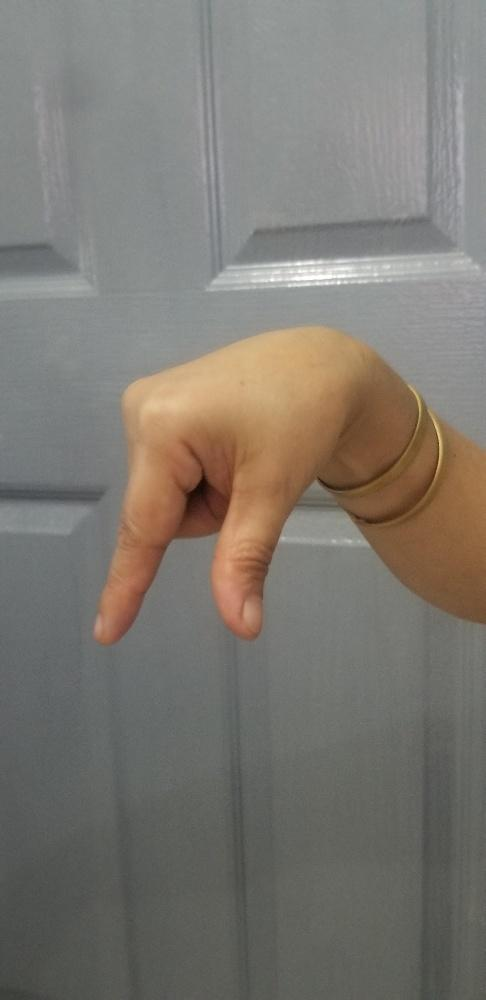q: (89, 322, 363, 647)
